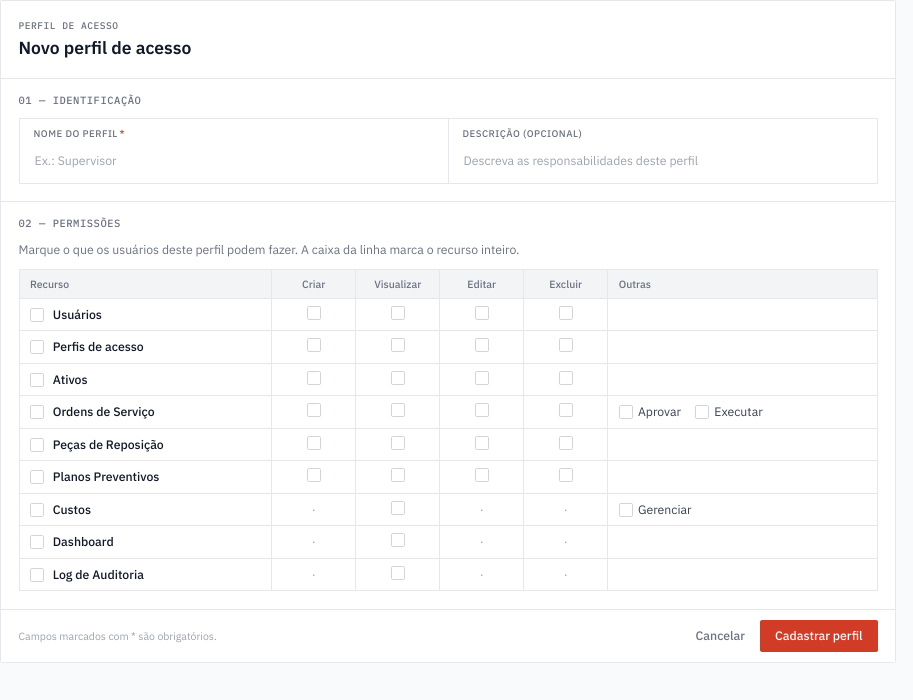
it: RoleEditPage — modo criação › deve exigir o nome da role
Click the button "Cadastrar perfil" at (819, 636), box [760,620,878,652]
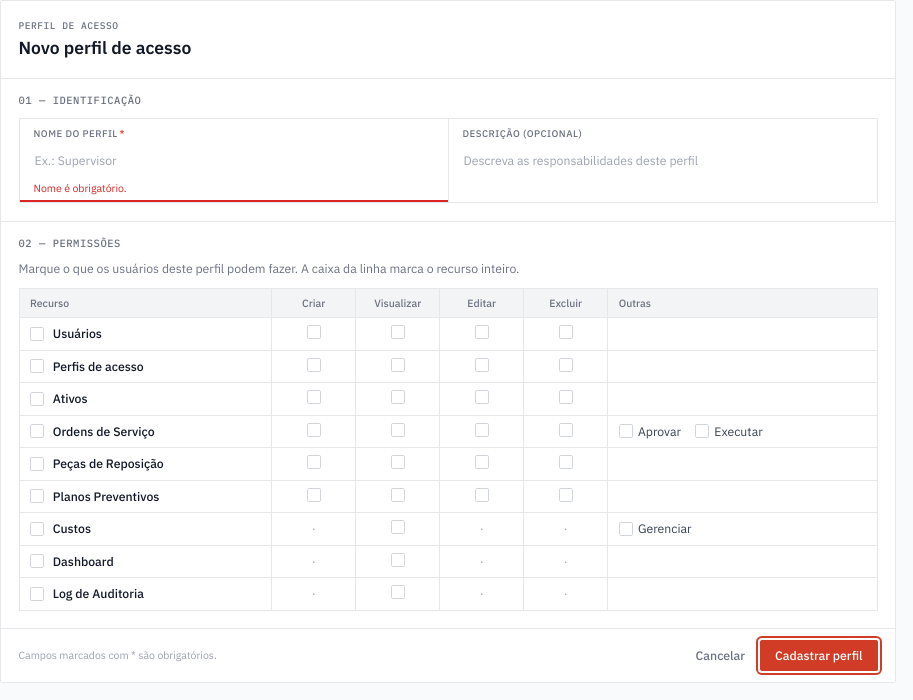
Now the text "Nome é obrigatório." is shown, box [34,181,127,195]
